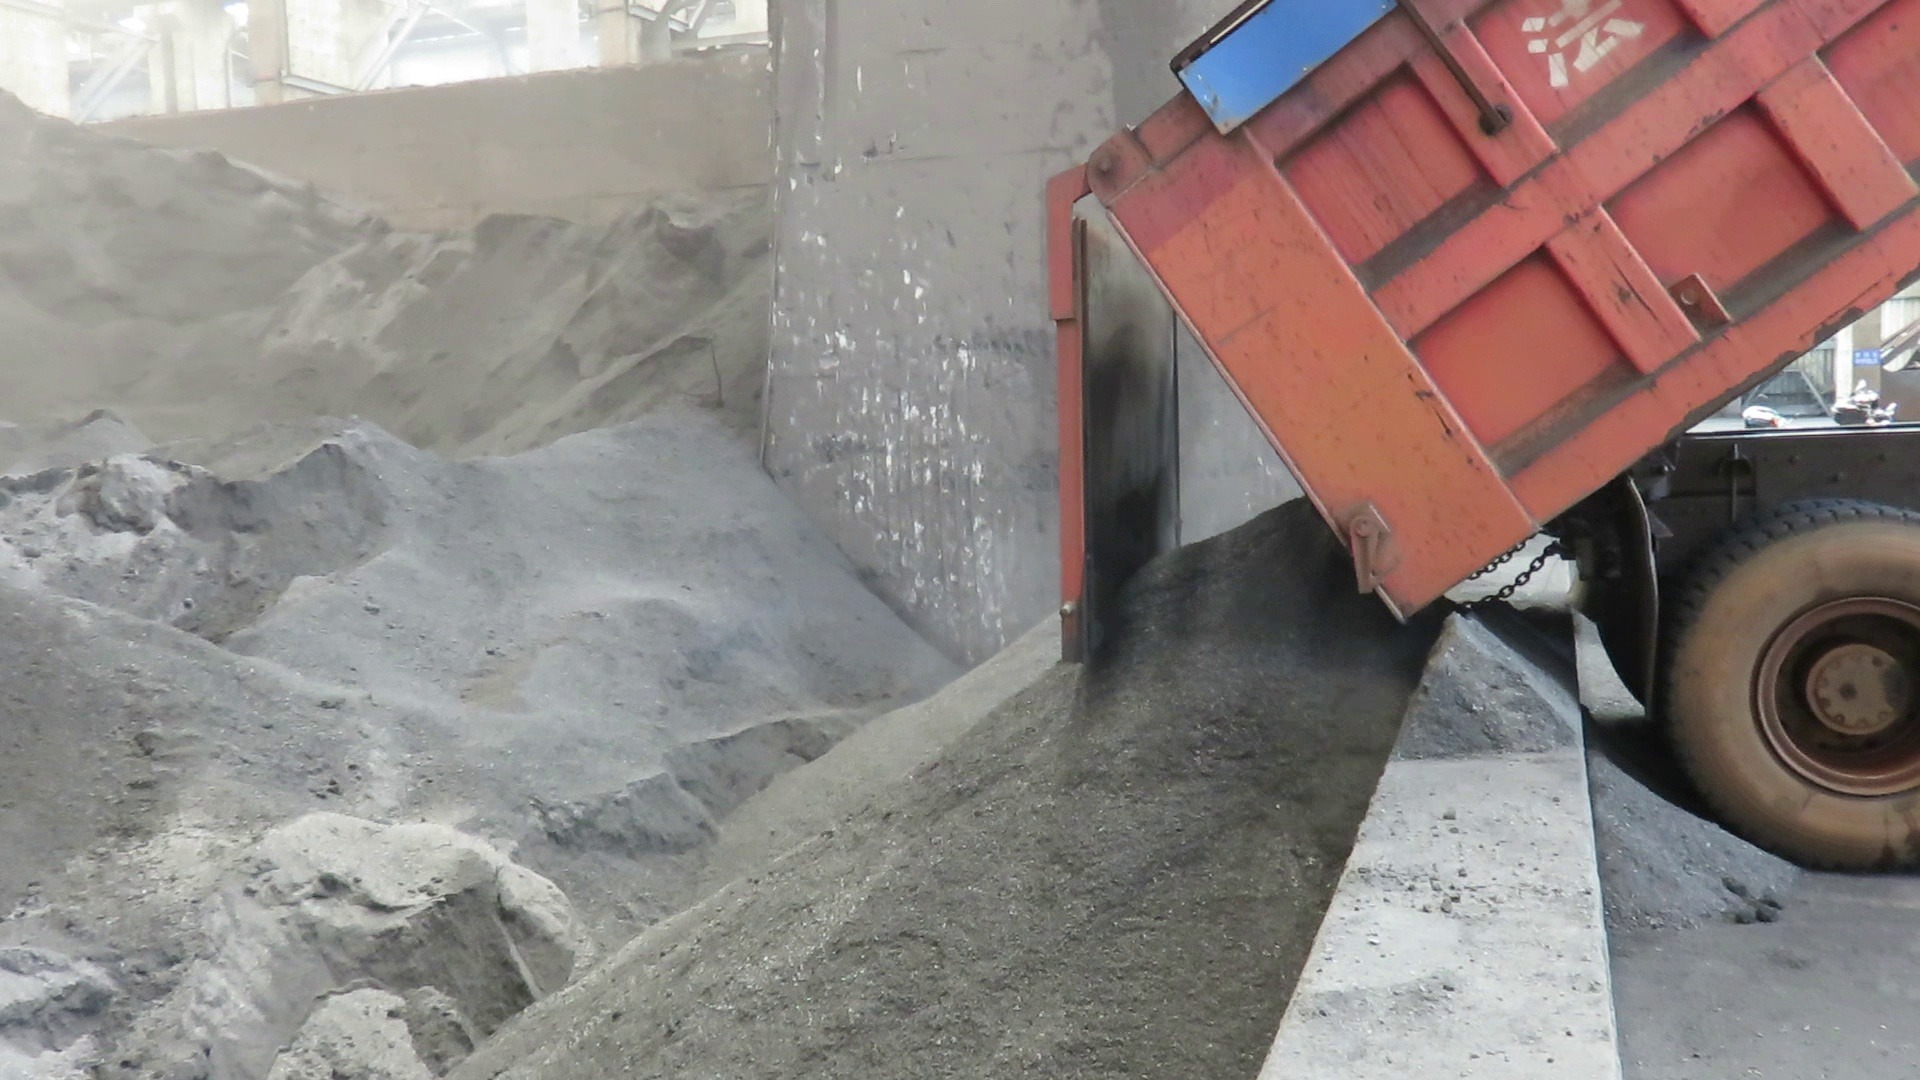dust: (24, 49, 1036, 773)
truck: (1027, 0, 1920, 889)
